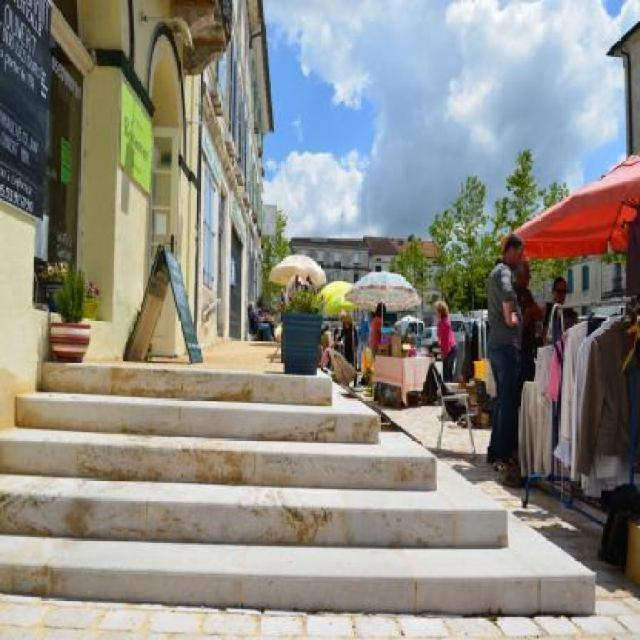stair: (0, 364, 595, 615)
